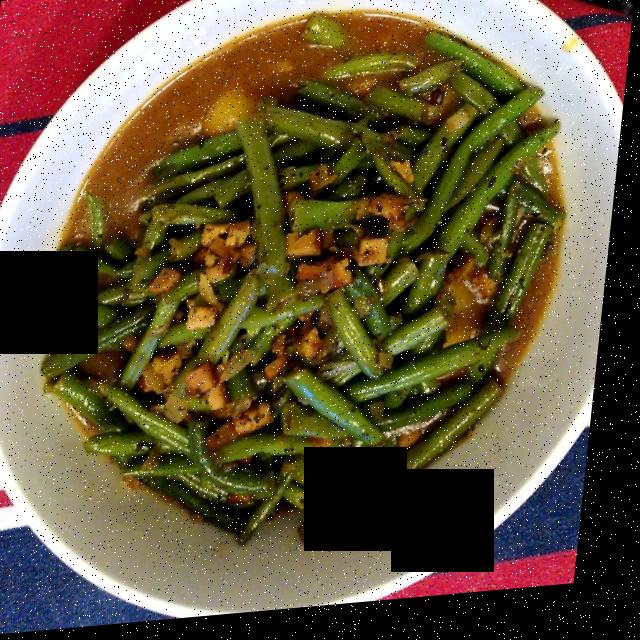faux-mage-cashew-vegan-chers: (151, 180, 405, 432)
french-beans: (60, 30, 561, 531)
potato-gnocchi: (203, 98, 262, 145)
